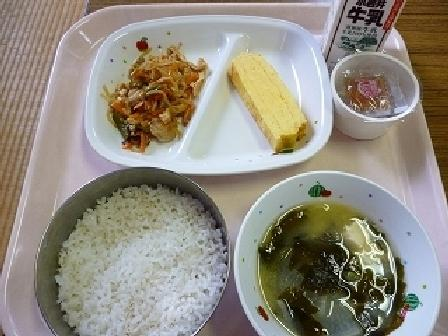Milk: (317, 0, 417, 55)
Rice: (41, 168, 230, 334)
Soups: (235, 183, 435, 334)
pastry: (214, 47, 318, 157)
vegetable based cooked food: (103, 36, 207, 143)
